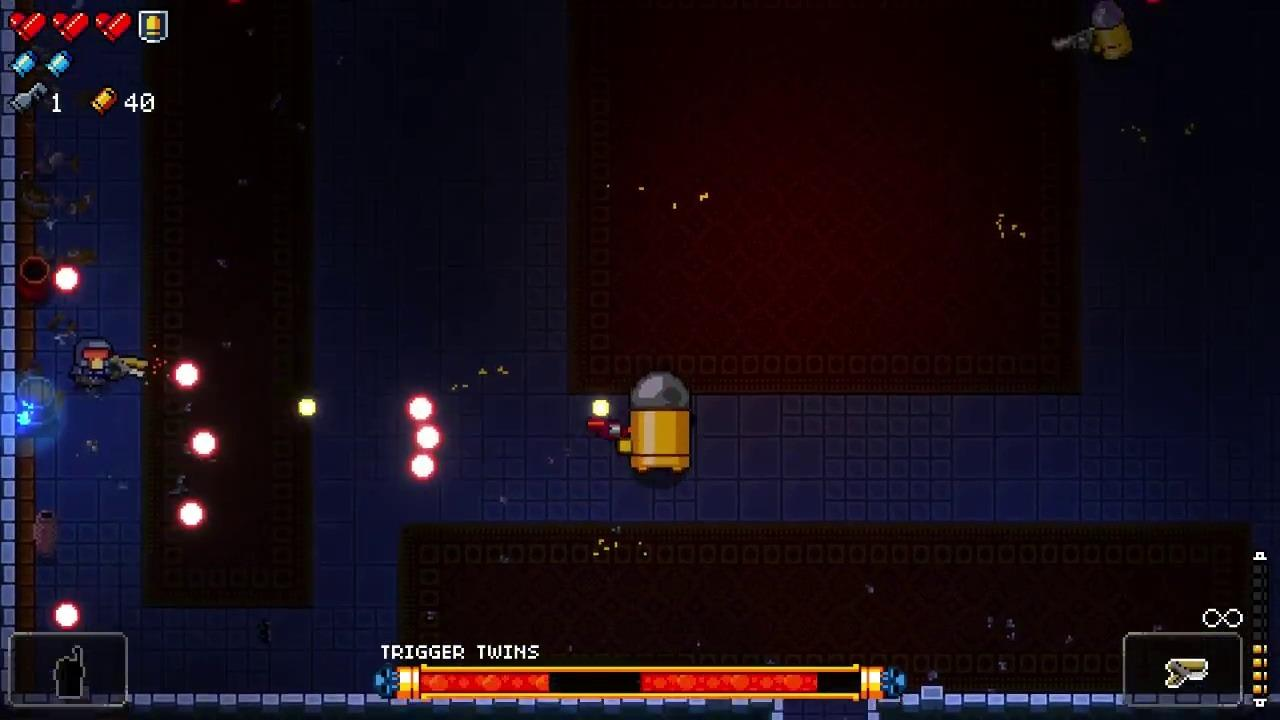boss_shades: (630, 370, 692, 476)
bullet: (48, 264, 82, 295), (406, 393, 438, 425), (191, 429, 221, 459), (415, 424, 445, 453), (170, 360, 200, 389), (53, 600, 81, 631), (177, 502, 206, 531), (410, 454, 438, 484)
bullet_kin: (1090, 3, 1136, 62)
player: (74, 339, 115, 387)
